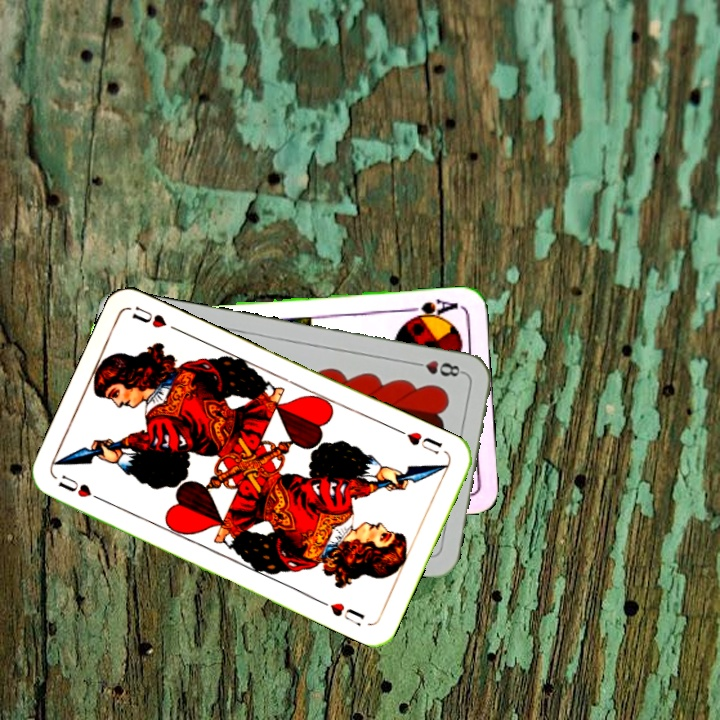H8: (408, 356, 467, 380)
HU: (54, 470, 108, 505), (403, 427, 445, 457)
SA: (403, 294, 461, 323)
